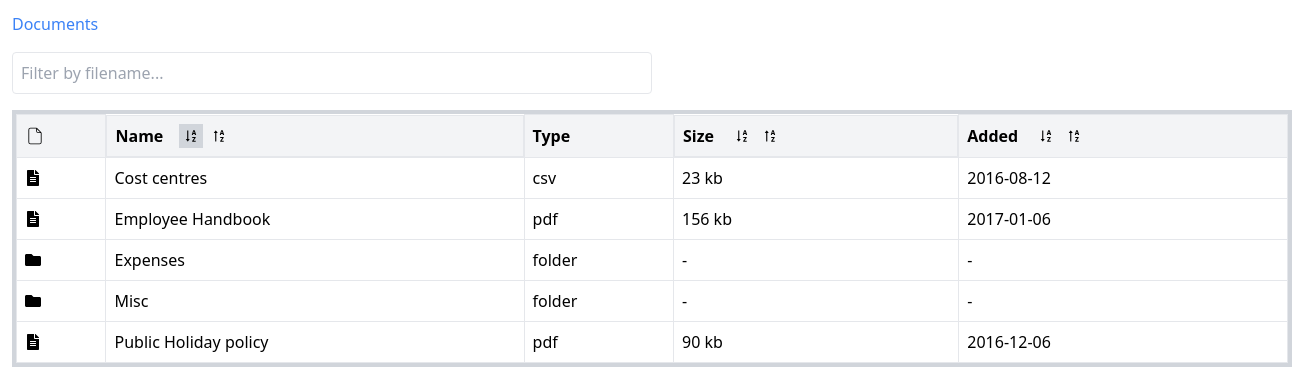
Test case: navigates into a folder and updates the breadcrumb
This screenshot has width=1292, height=384.
Click the text "Expenses": (315,260) [106, 239, 524, 280]
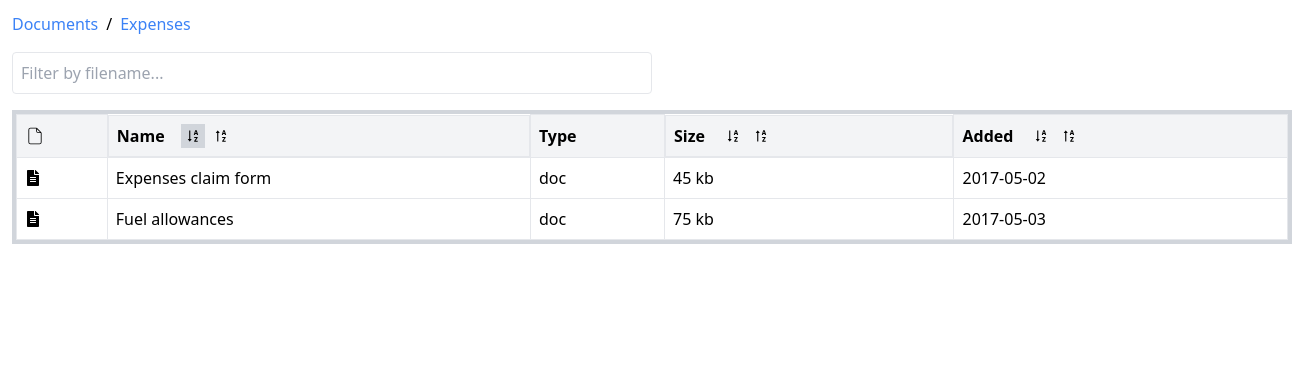
Check: the text "Expenses claim form" is shown, box [107, 157, 530, 198]
Check: the text "Fuel allowances" is shown, box [107, 198, 530, 239]
Check: the text "Expenses" is shown, box [120, 12, 191, 36]
